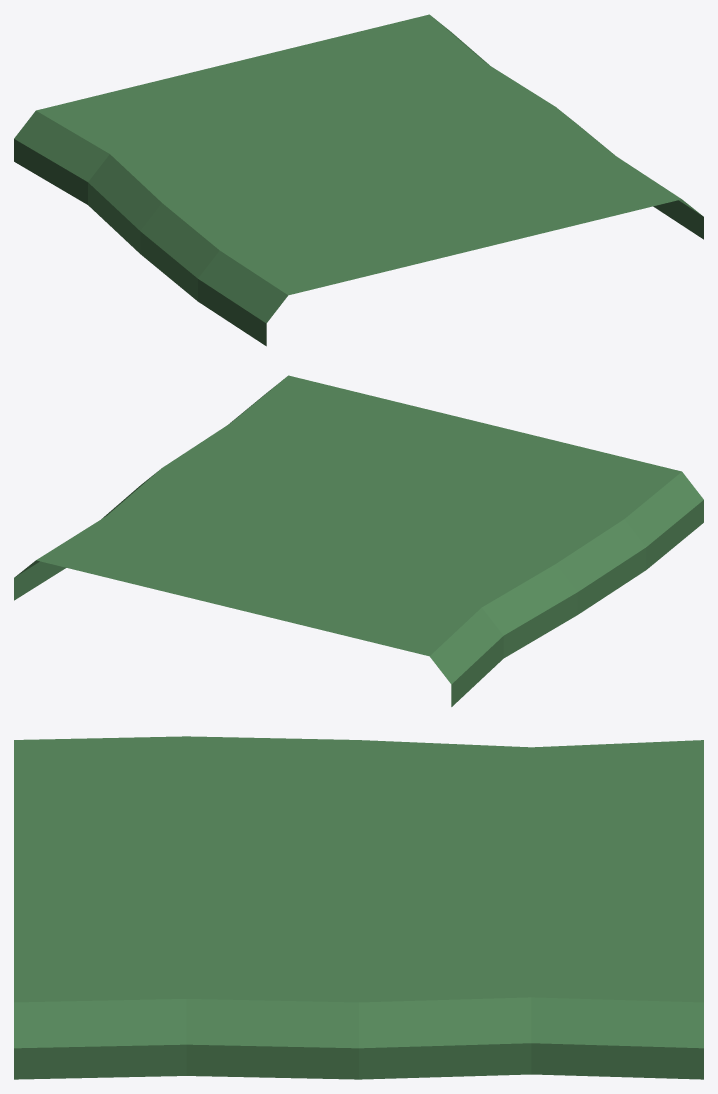
Rendered from Grass_Side_2.fbx.
3 views of the same model, one above another, from view 1: azimuth 30°, elevation 25°; view 2: azimuth 150°, elevation 25°; view 3: azimuth 270°, elevation 25° (orthographic). The views are drawn at different scales.
Visible parts, largest first — view 1: Grass_Two_Sides; view 2: Grass_Two_Sides; view 3: Grass_Two_Sides.
Part boxes in pixels (x1,y1,x2,y2): Grass_Two_Sides: (14, 14, 703, 346); Grass_Two_Sides: (14, 375, 703, 706); Grass_Two_Sides: (14, 736, 703, 1079).
Size of the model in its own units: 101 by 10 by 100.
